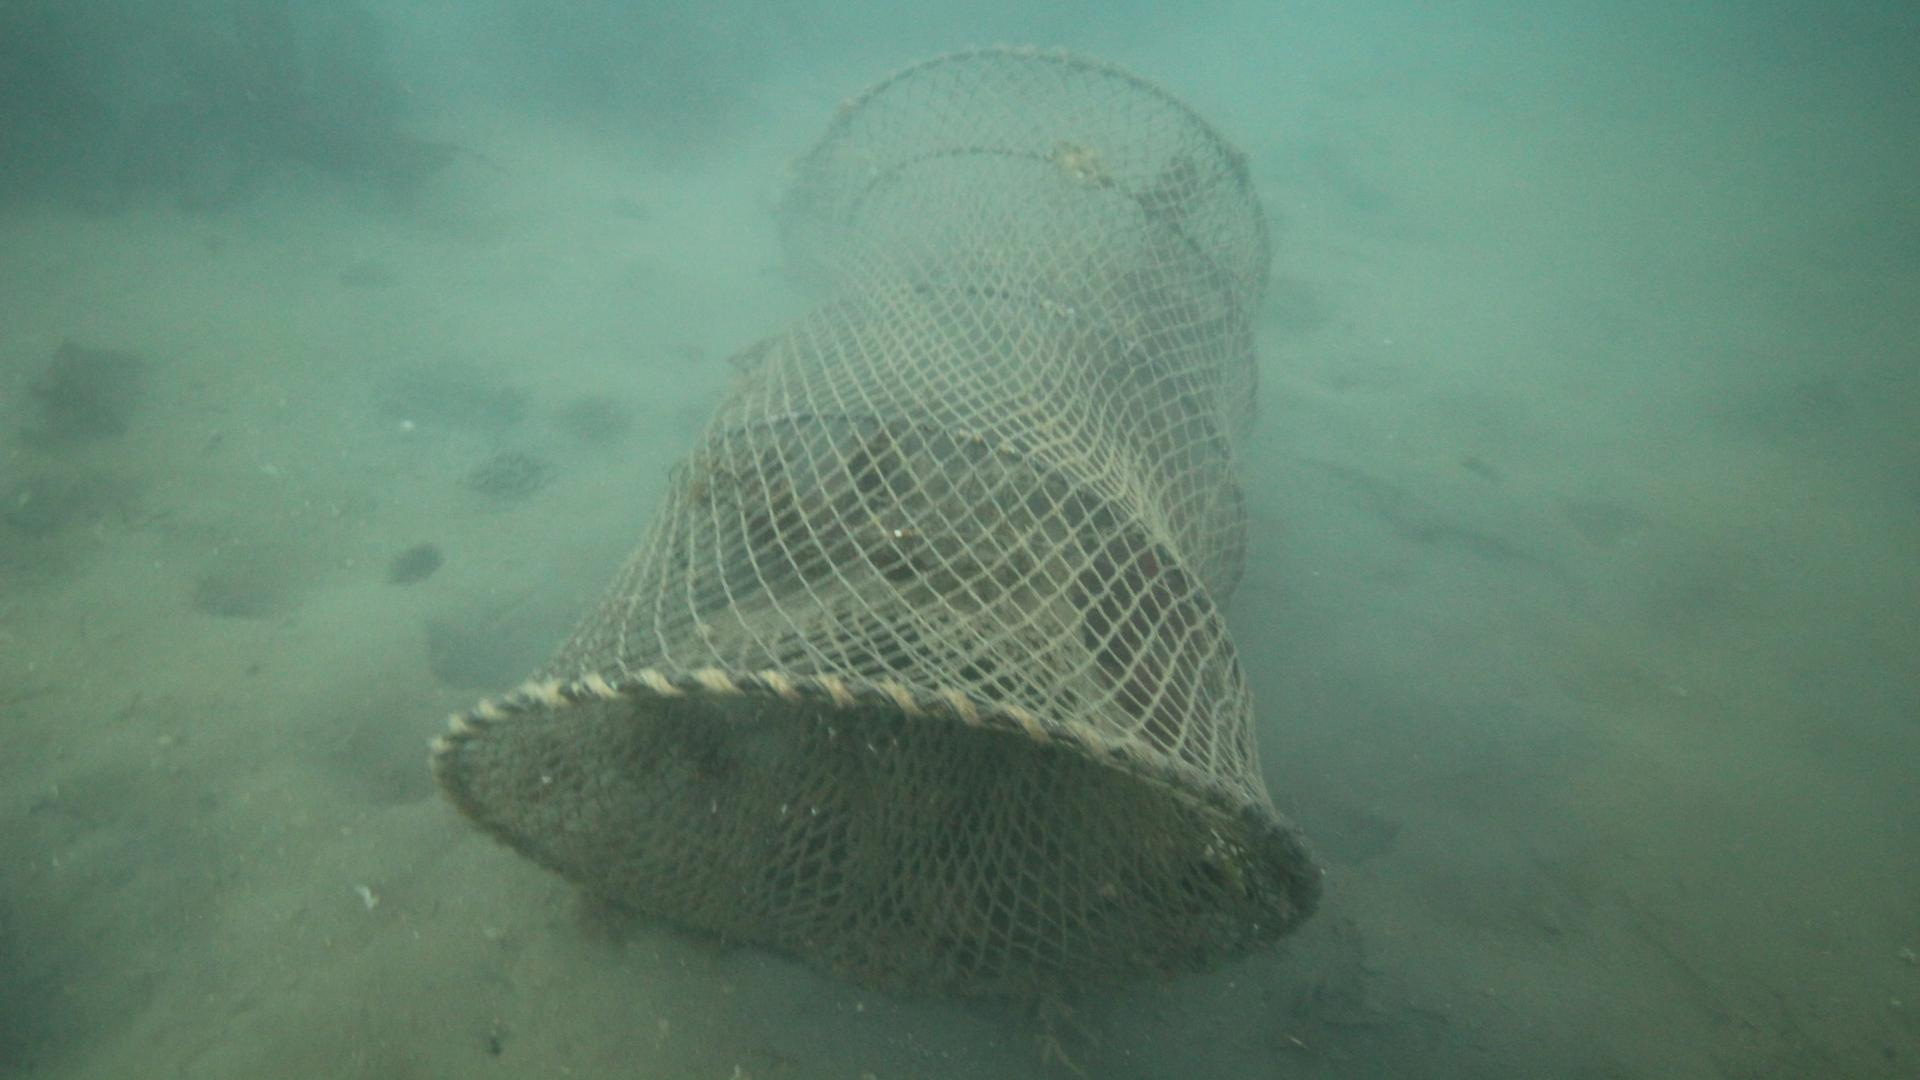spring fish trap: (425, 44, 1323, 1000)
